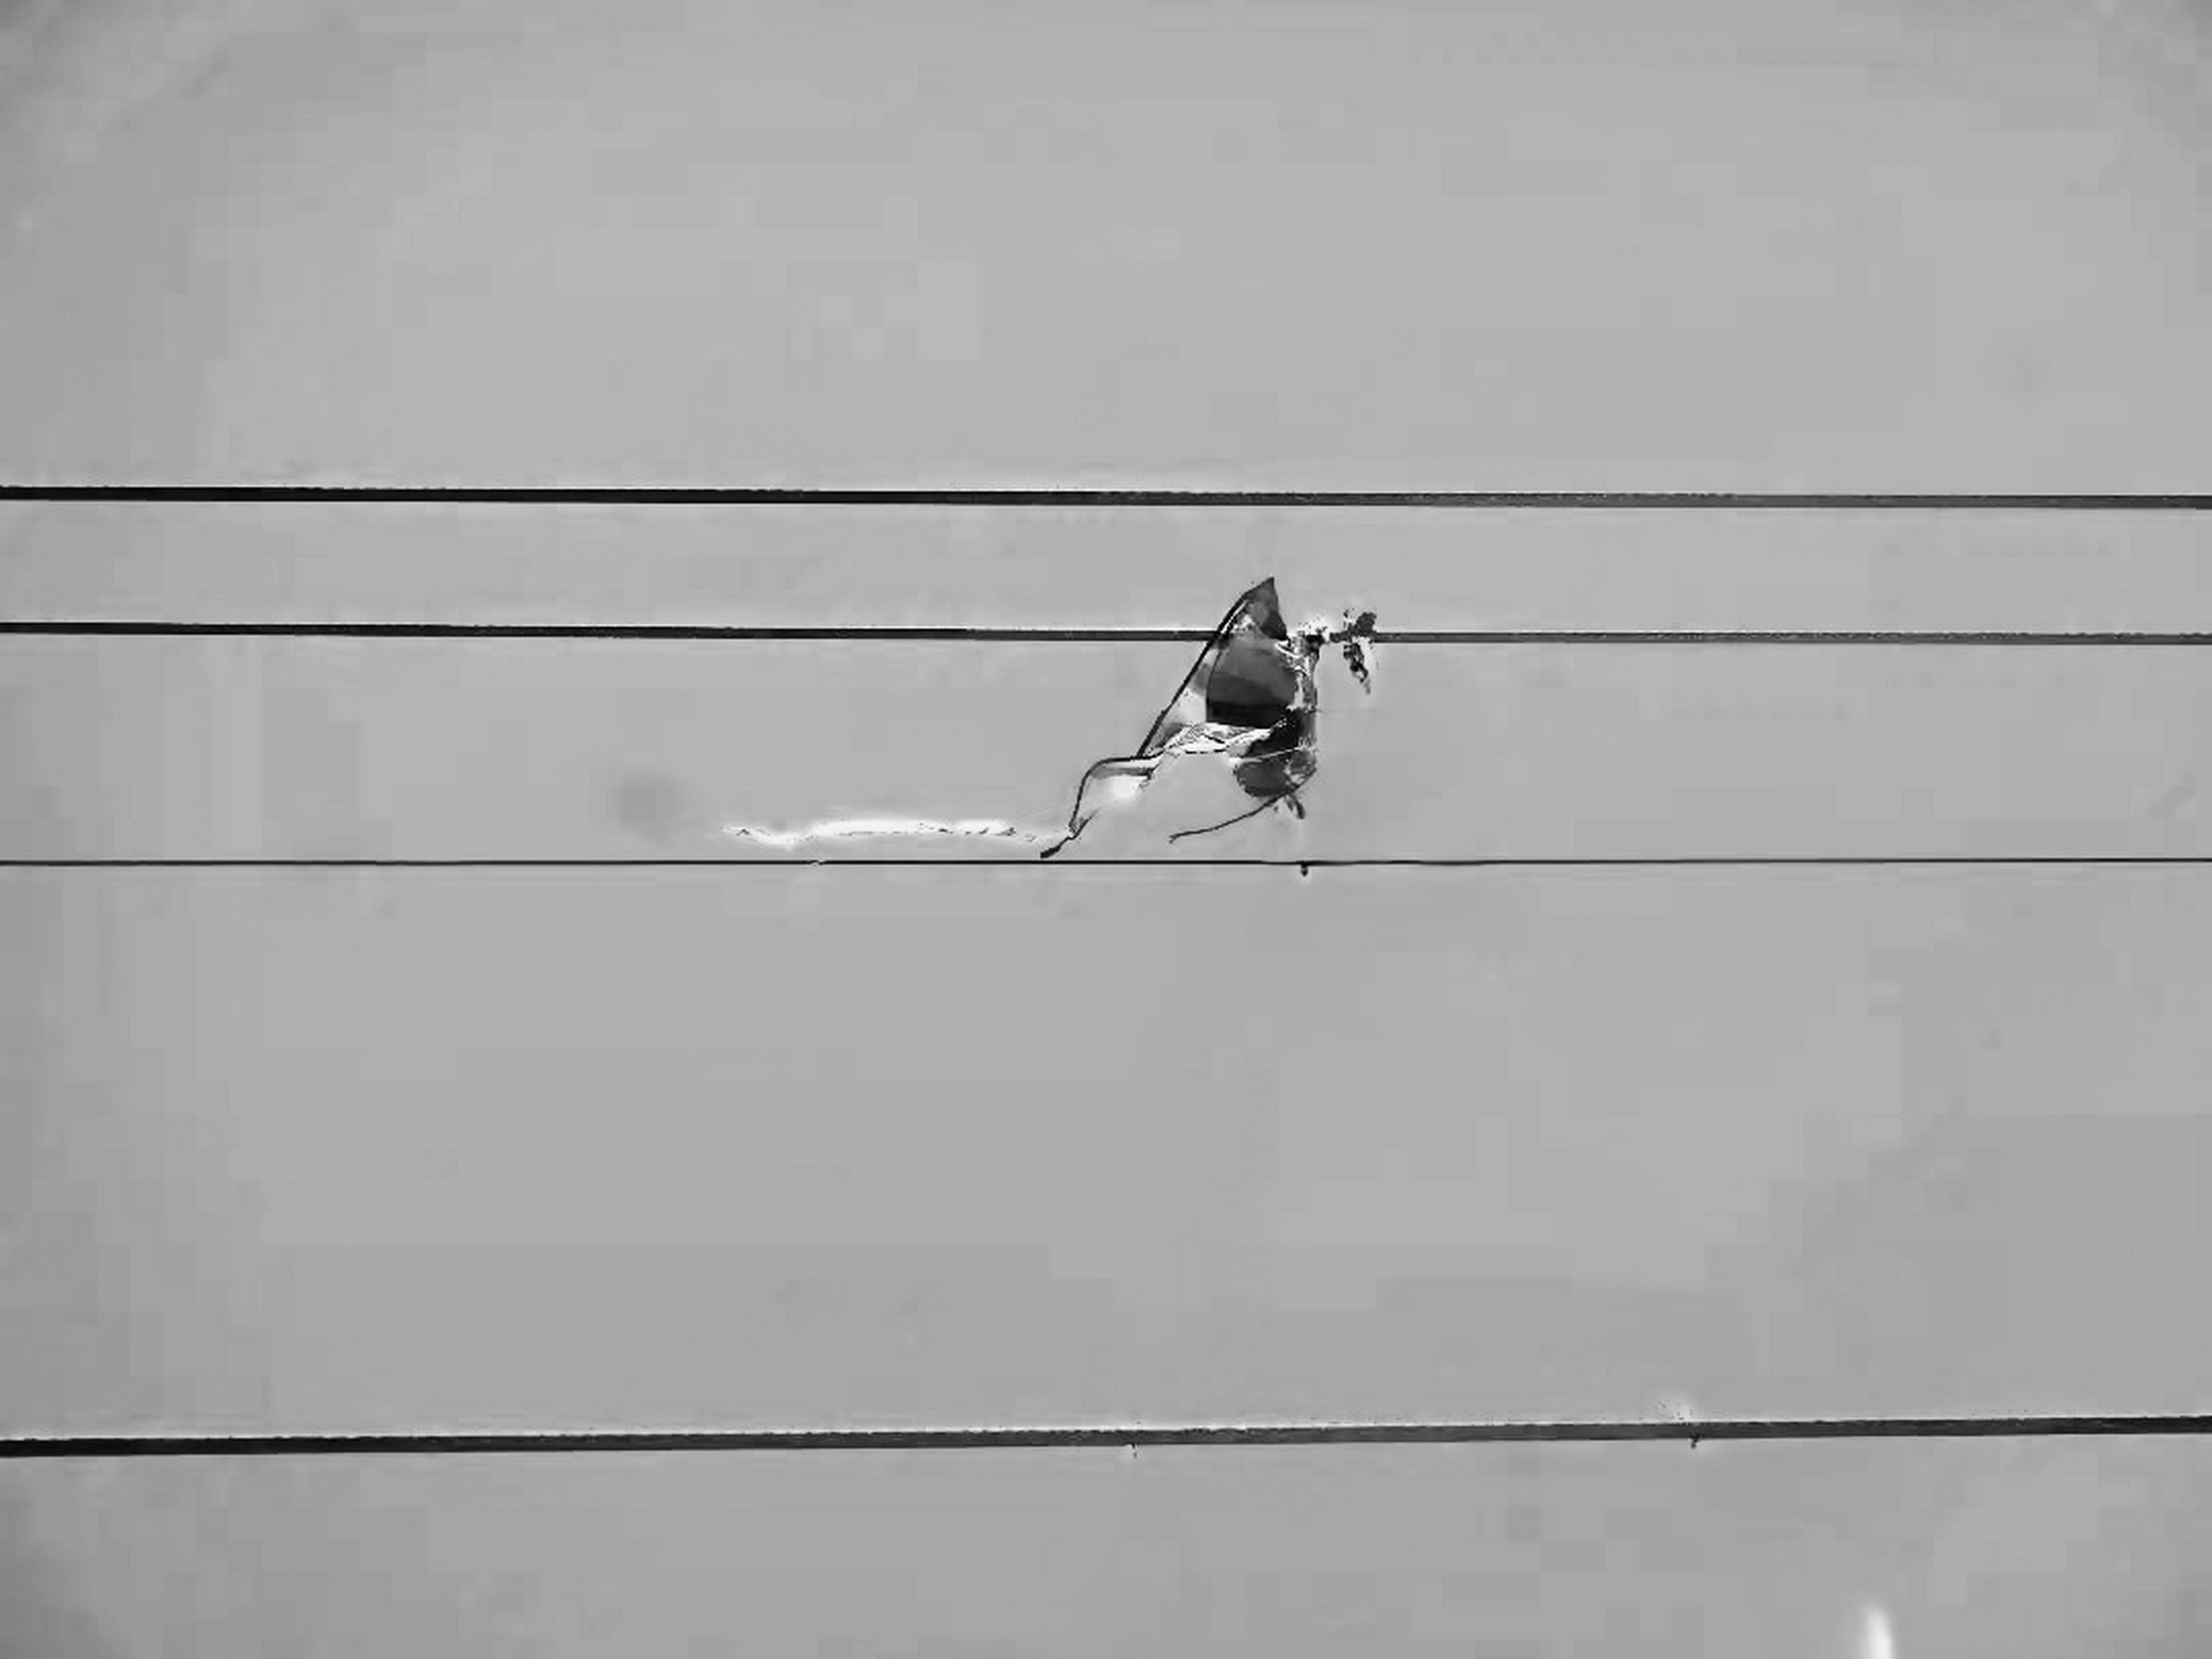wire foreign body: (1017, 566, 1461, 885)
